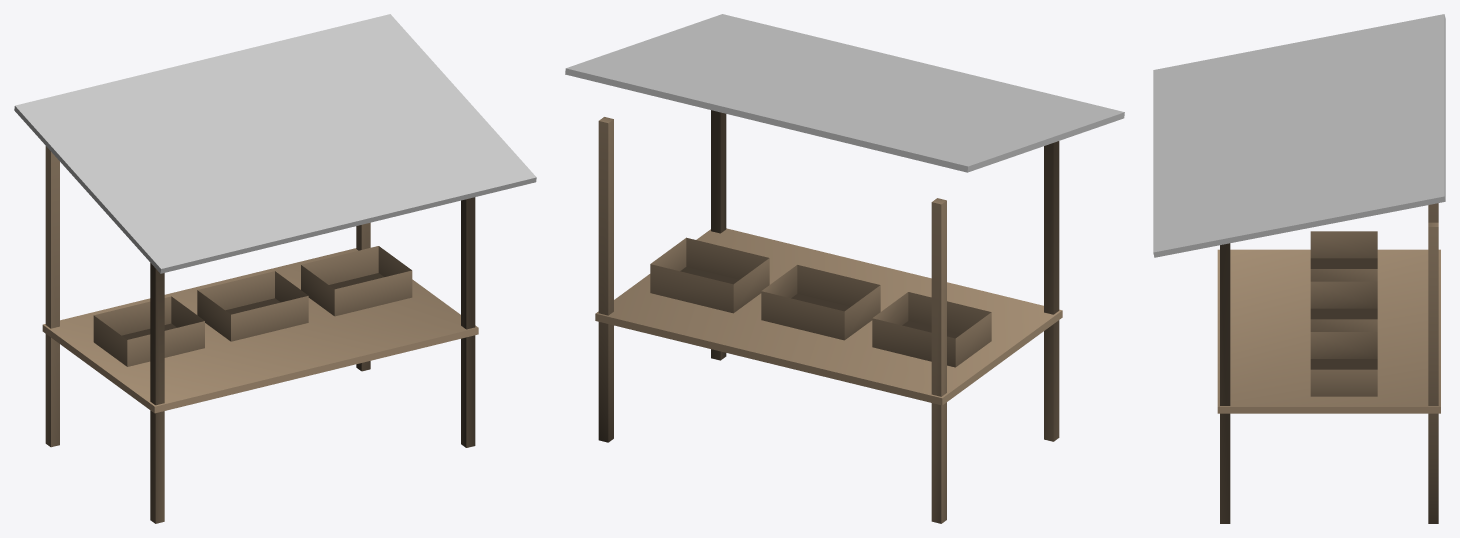
File: market_stall.glb
3 renders of one model, left to right at view 1: azimuth 30°, elevation 25°; view 2: azimuth 150°, elevation 25°; view 3: azimuth 270°, elevation 25°, orthographic. The views are drawn at different scales.
Visible parts, largest first — view 1: market_stall; view 2: market_stall; view 3: market_stall.
Part boxes in pixels (x1,y1,x2,y2): market_stall: [14, 14, 536, 523]; market_stall: [565, 14, 1124, 523]; market_stall: [1153, 14, 1445, 523].
Bounding box in the file's own units: 2.9 × 2.53 × 1.96.
